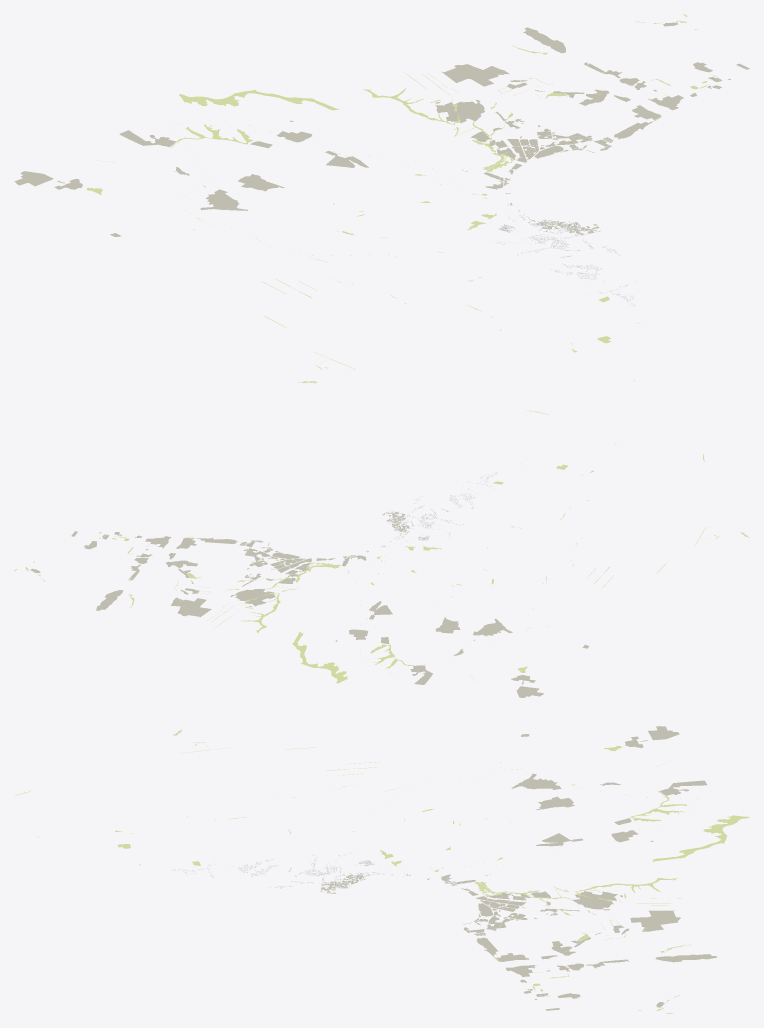
File: TILE_04_00_REST_BATCH_08.glb
3 renders of one model, top to bottom at view 1: azimuth 30°, elevation 25°; view 2: azimuth 150°, elevation 25°; view 3: azimuth 270°, elevation 25°, orthographic. The views are drawn at different scales.
Visible parts, largest first — view 1: WEB_landuse_re, WEB_natural_s0; view 2: WEB_landuse_re, WEB_natural_s0; view 3: WEB_landuse_re, WEB_natural_s0.
Boxes of the visible parts, x1=… form: WEB_landuse_re: x1=14, y1=22, x2=749, y2=236; WEB_natural_s0: x1=86, y1=14, x2=716, y2=414; WEB_landuse_re: x1=30, y1=510, x2=589, y2=697; WEB_natural_s0: x1=14, y1=454, x2=749, y2=683; WEB_landuse_re: x1=320, y1=726, x2=716, y2=1010; WEB_natural_s0: x1=15, y1=729, x2=749, y2=1013.
Size of the model in its own units: 621 by 0.00811 by 672.
